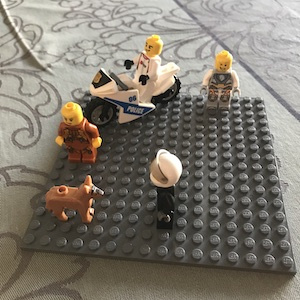Lego: (52, 101, 103, 168), (123, 31, 166, 106), (147, 150, 185, 232), (199, 51, 240, 111)
